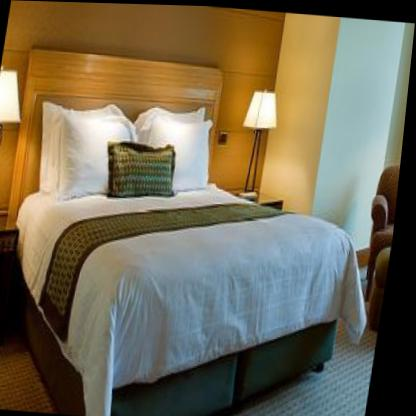Bed: (0, 43, 379, 416)
Lamp: (235, 82, 284, 199)
